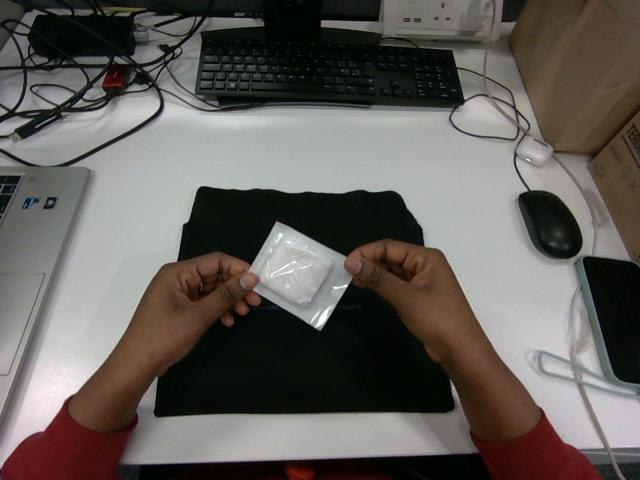gauze: (250, 222, 351, 329)
